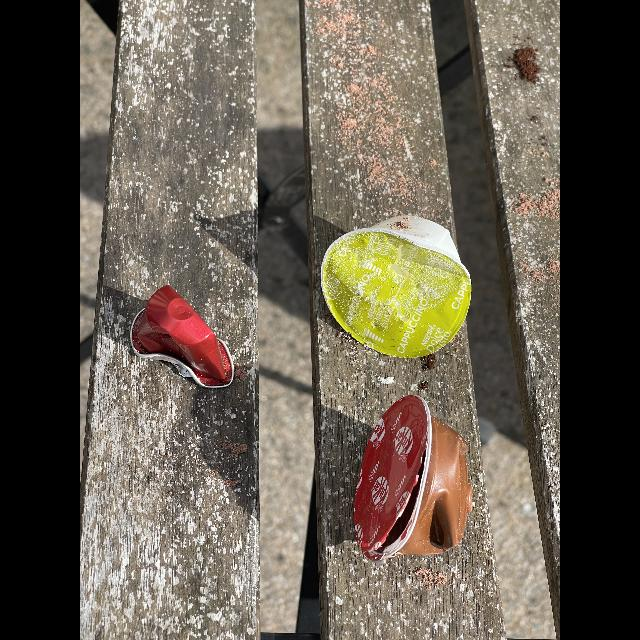damaged_capsule: (314, 209, 486, 363), (344, 386, 484, 572), (124, 278, 252, 394)
